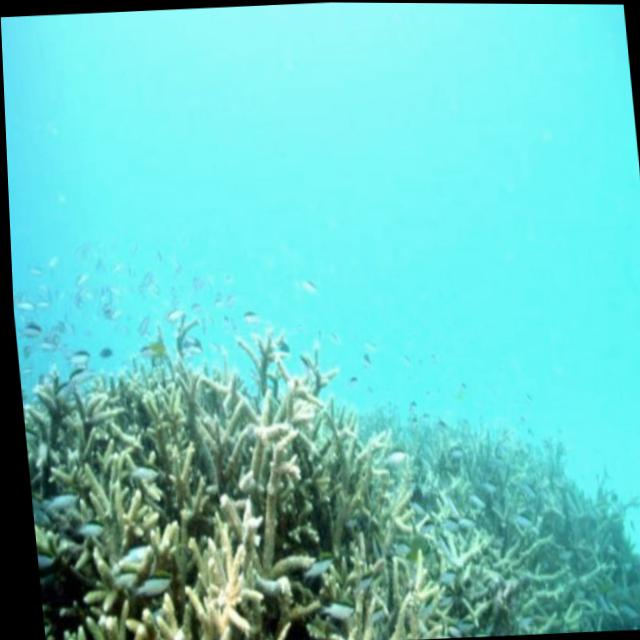Dead Coral: (34, 343, 605, 640)
